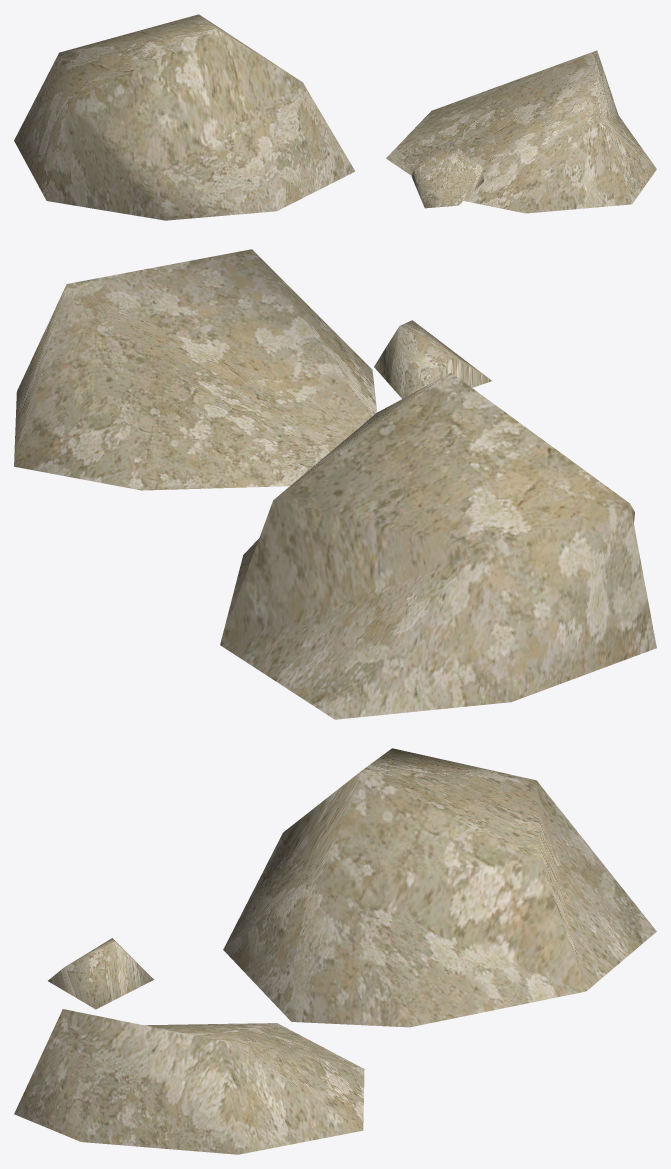
File: rock_small_pile_a2_l2.fbx
3 views of the same model, one above another, from view 1: azimuth 30°, elevation 25°; view 2: azimuth 150°, elevation 25°; view 3: azimuth 270°, elevation 25° (orthographic). The views are drawn at different scales.
Visible parts, largest first — view 1: mesh_node; view 2: mesh_node; view 3: mesh_node.
Boxes of the visible parts, x1,y1,x2,y2 form: mesh_node: [14, 14, 656, 220]; mesh_node: [14, 249, 656, 719]; mesh_node: [14, 748, 656, 1154].
Size of the model in its own units: 2.72 by 0.752 by 2.37.
